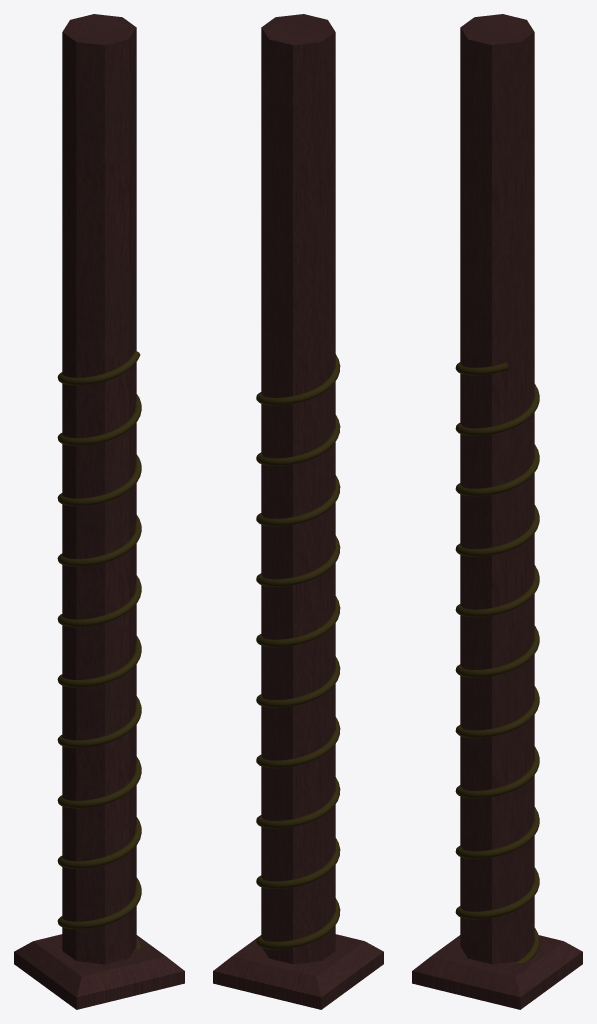
Rendered from pillar_m1.fbx.
3 views of the same model, side by side, from view 1: azimuth 30°, elevation 25°; view 2: azimuth 150°, elevation 25°; view 3: azimuth 330°, elevation 25° (orthographic).
Visible parts, largest first — view 1: Pillar, PillarDeco; view 2: Pillar, PillarDeco; view 3: Pillar, PillarDeco.
Part boxes in pixels (<box>): Pillar: <box>14,14,184,1009</box>; PillarDeco: <box>57,351,141,949</box>; Pillar: <box>213,14,383,1009</box>; PillarDeco: <box>256,354,340,949</box>; Pillar: <box>412,14,582,1009</box>; PillarDeco: <box>455,362,539,963</box>.
Bounding box in the file's own units: 1.8 × 15 × 1.8.
